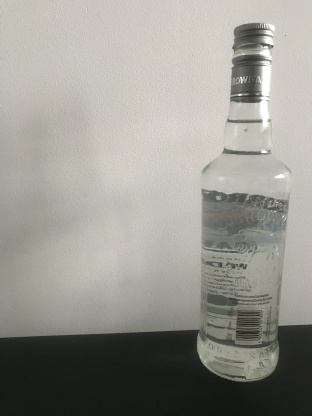nakretka: (229, 20, 280, 103)
